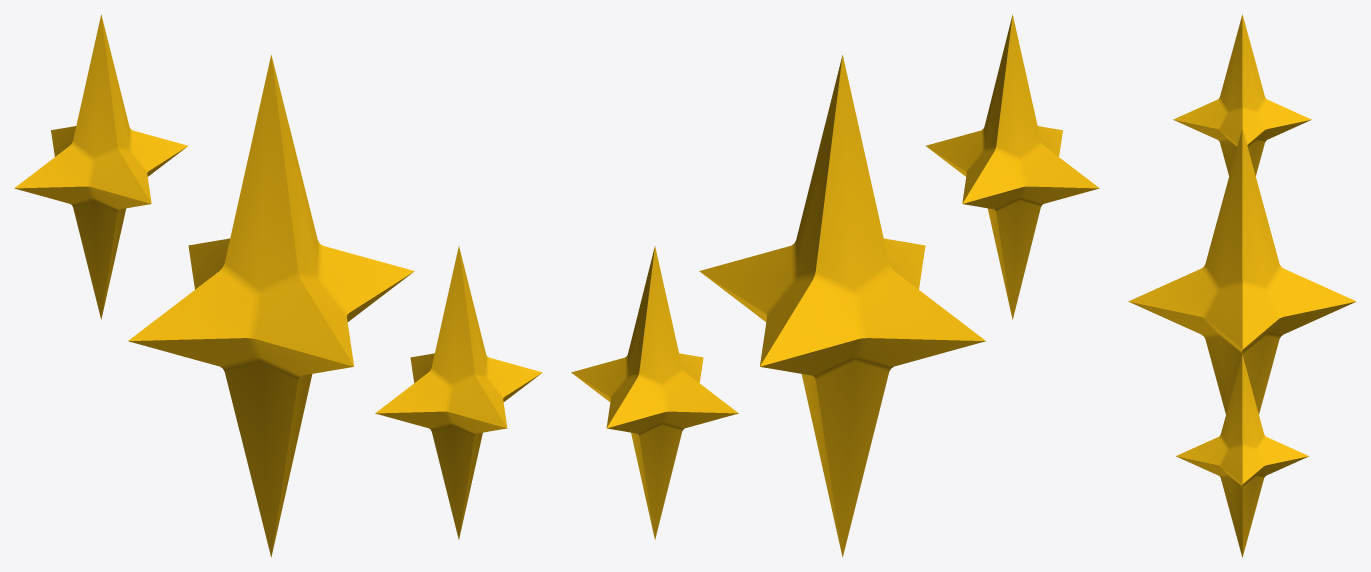
File: sparkles.glb
3 renders of one model, left to right at view 1: azimuth 30°, elevation 25°; view 2: azimuth 150°, elevation 25°; view 3: azimuth 270°, elevation 25°, orthographic. The views are drawn at different scales.
Parts seen in each view (by area): view 1: Cube.227, Cube.228, Cube.229; view 2: Cube.227, Cube.228, Cube.229; view 3: Cube.227, Cube.229, Cube.228.
Part boxes in pixels (x1,y1,x2,y2): Cube.227: (128,55,414,557); Cube.228: (14,14,188,319); Cube.229: (375,246,542,539); Cube.227: (699,55,985,557); Cube.228: (925,14,1099,319); Cube.229: (571,246,738,539); Cube.227: (1128,128,1356,413); Cube.229: (1176,355,1308,557); Cube.228: (1173,14,1311,175).
Size of the model in its own units: 1.88 by 2.08 by 1.02.
Materials: 1 (1 with a texture image).
